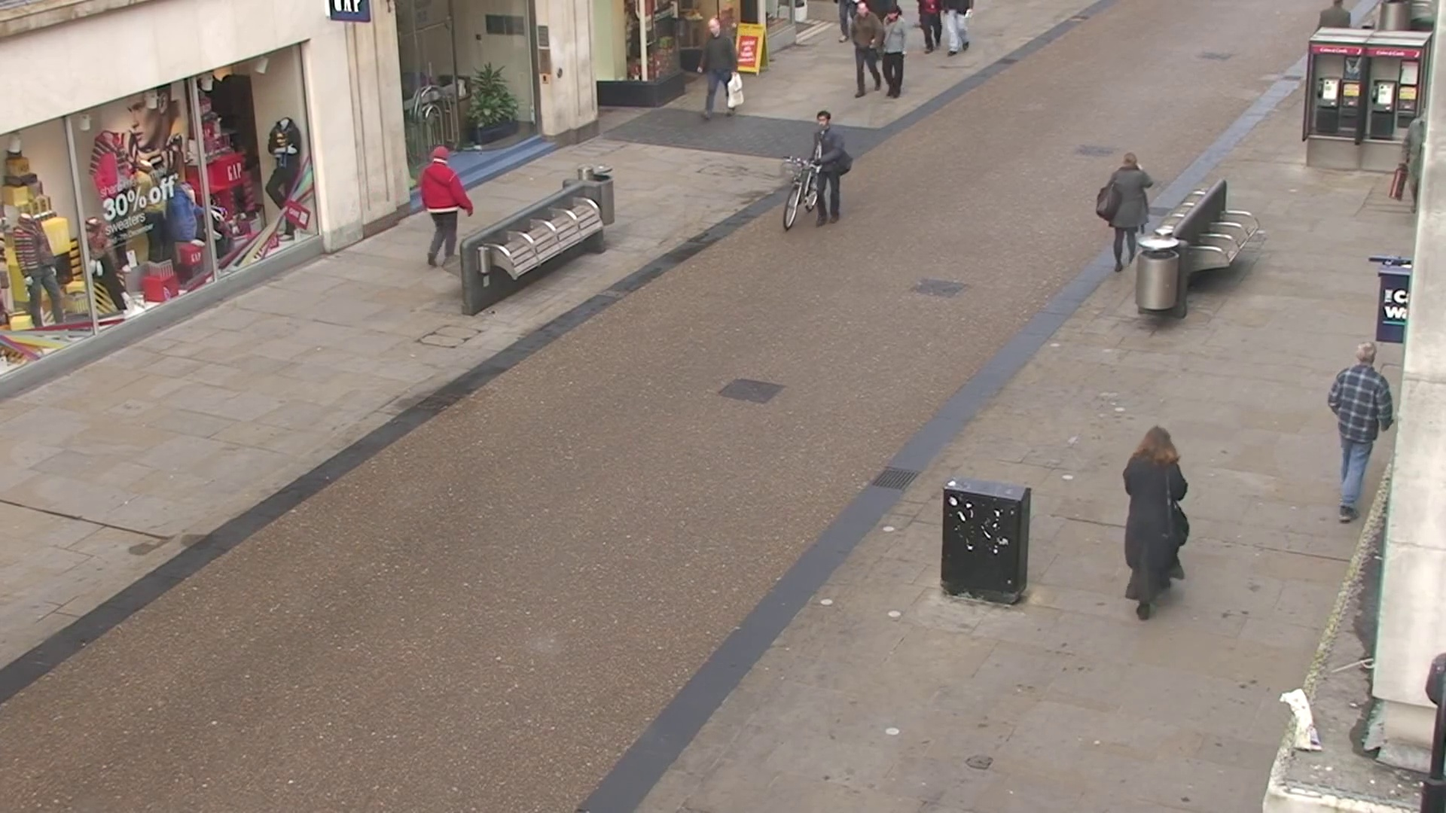person: (1121, 425, 1192, 617), (1329, 340, 1394, 524), (417, 142, 476, 270), (1094, 152, 1155, 273), (806, 108, 853, 221), (265, 117, 307, 239), (700, 5, 742, 118), (850, 1, 885, 97), (879, 5, 907, 97), (917, 0, 941, 54)
